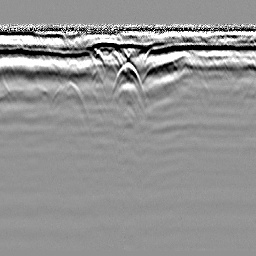cavity: (111, 60, 146, 100)
